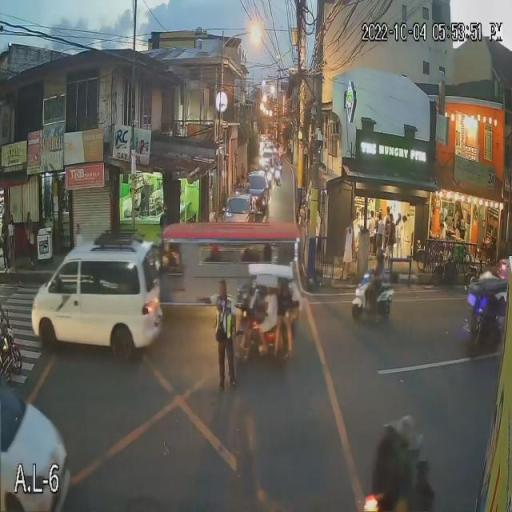helmet: (391, 414, 425, 442), (370, 419, 404, 447), (374, 248, 387, 266)
motorcycle: (362, 460, 436, 512), (463, 275, 507, 353), (351, 272, 396, 326)
rider: (368, 416, 404, 510), (396, 414, 430, 512), (473, 256, 511, 313), (359, 254, 384, 310)
